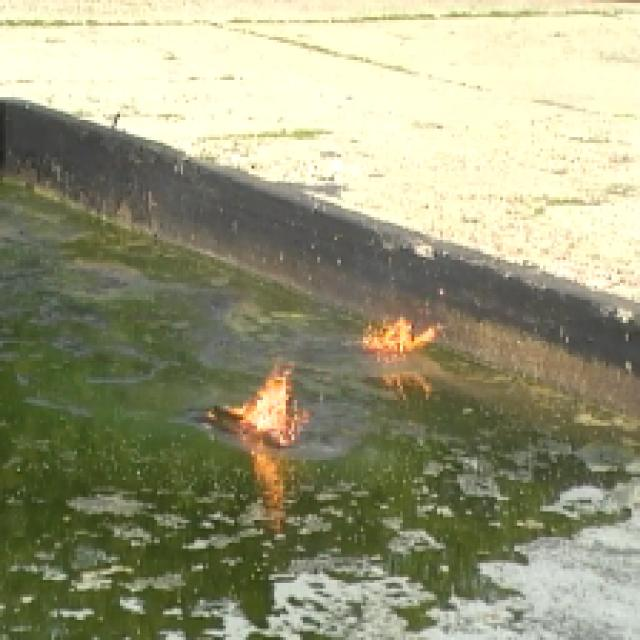fire: (224, 367, 314, 451), (358, 316, 446, 360)
